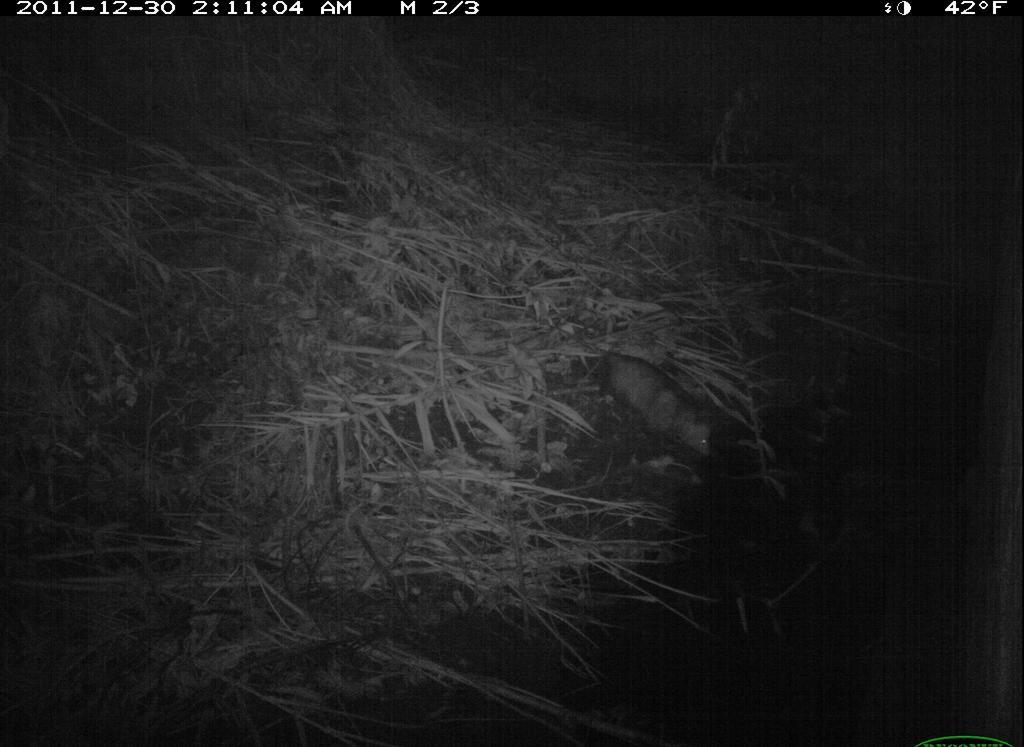opossum: (542, 318, 724, 463)
